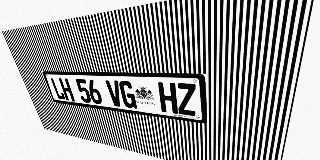5: (75, 79, 92, 103)
6: (86, 79, 103, 105)
G: (118, 81, 137, 109)
H: (158, 82, 178, 114), (58, 78, 75, 101)
L: (50, 78, 66, 100)
V: (105, 80, 124, 107)
Z: (176, 83, 197, 116)
